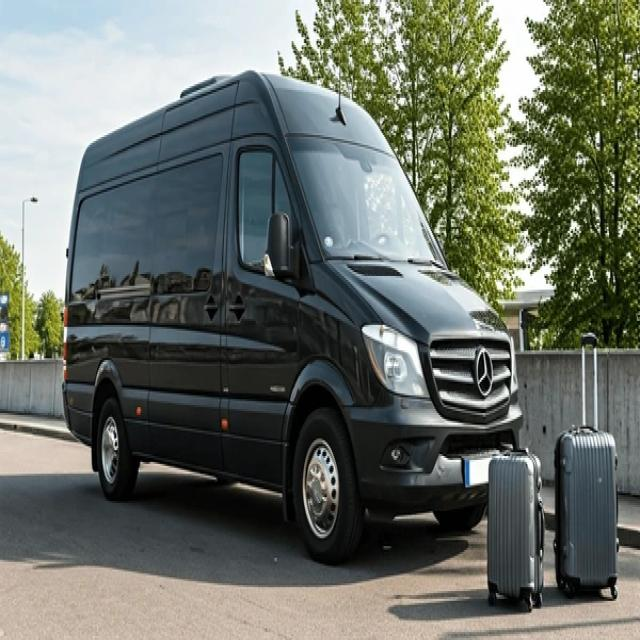mercedes: (474, 348, 496, 398)
